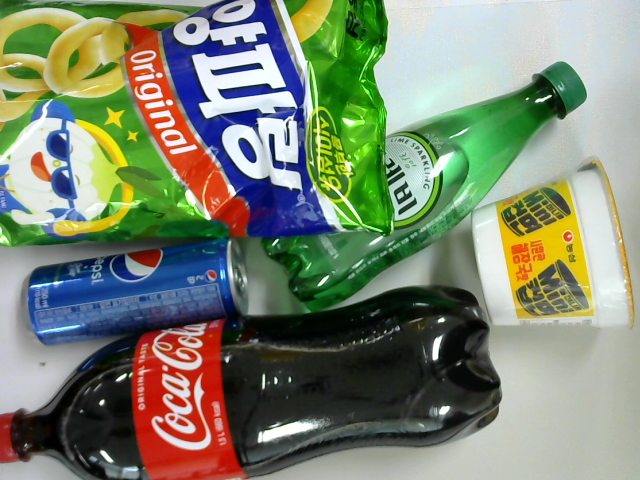Coca_Cola_1.5L: (1, 284, 504, 480)
Hejangmini: (468, 158, 638, 332)
Oninon_Ring: (1, 1, 392, 249)
Pepsi_Cola_Can_250ml: (23, 239, 251, 347)
Treviraim_500ml: (260, 60, 590, 313)
